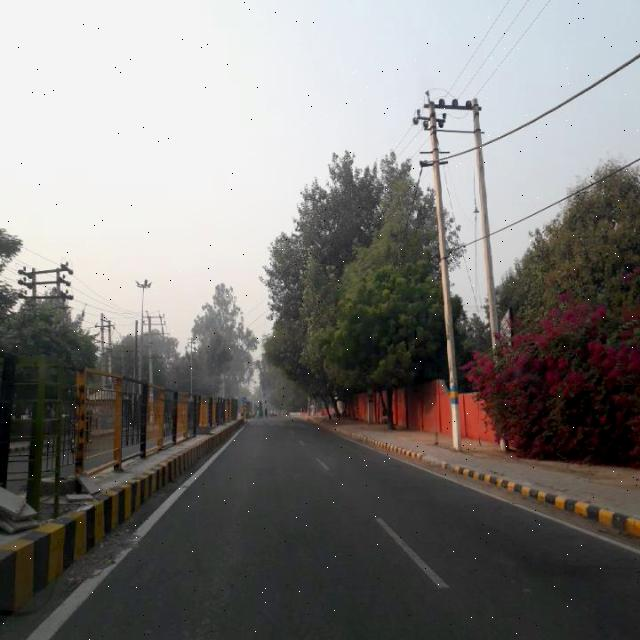D44: (80, 529, 148, 586)
